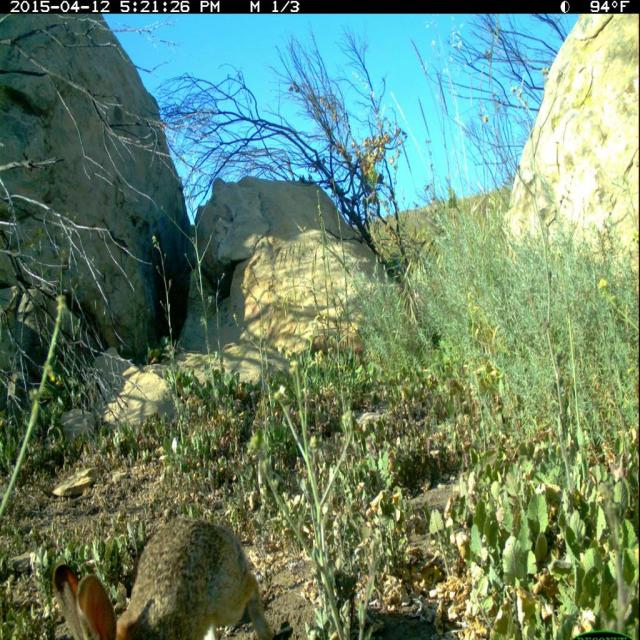rabbit: (43, 513, 281, 639)
